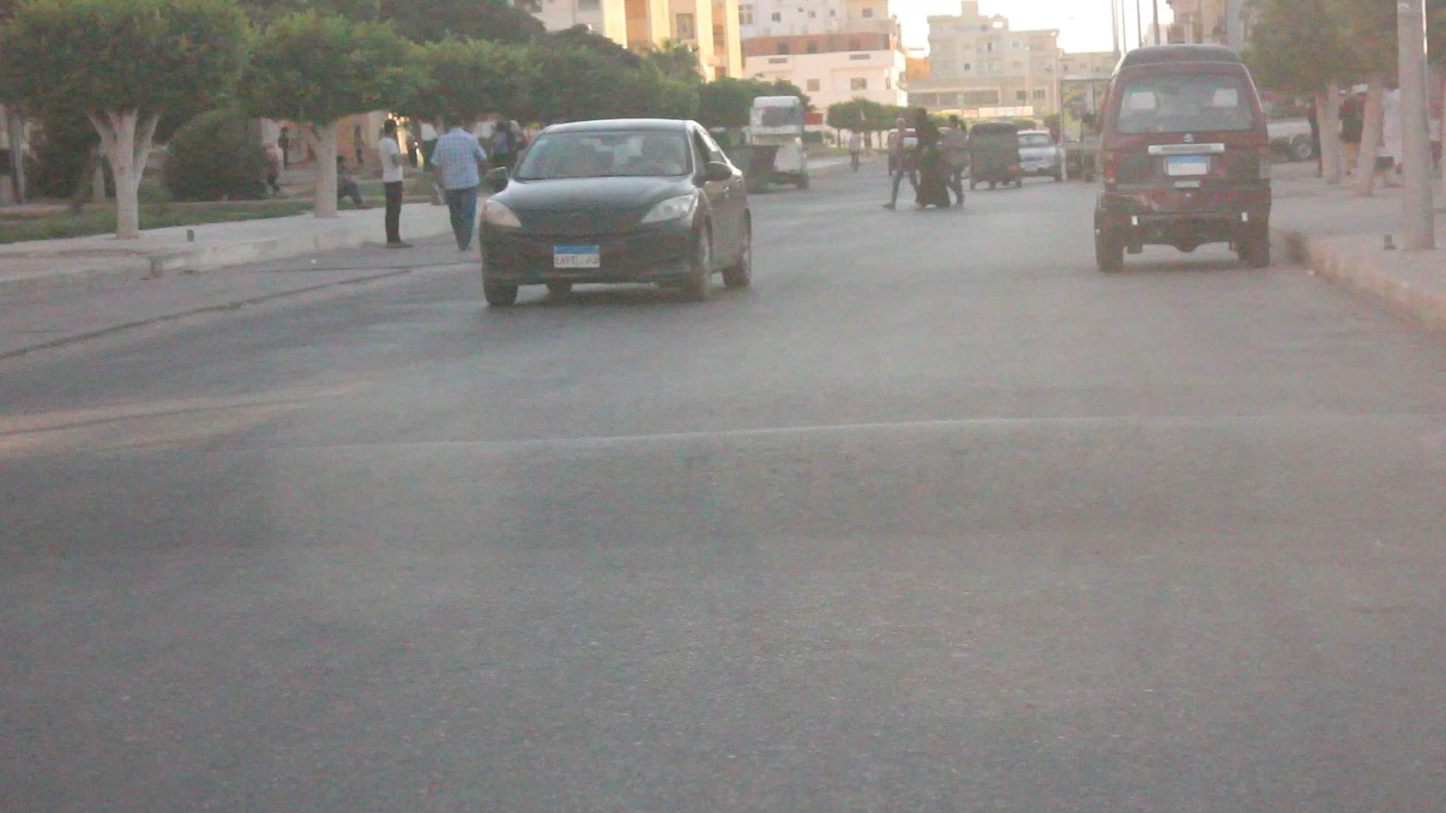Bump: (0, 412, 1445, 566)
